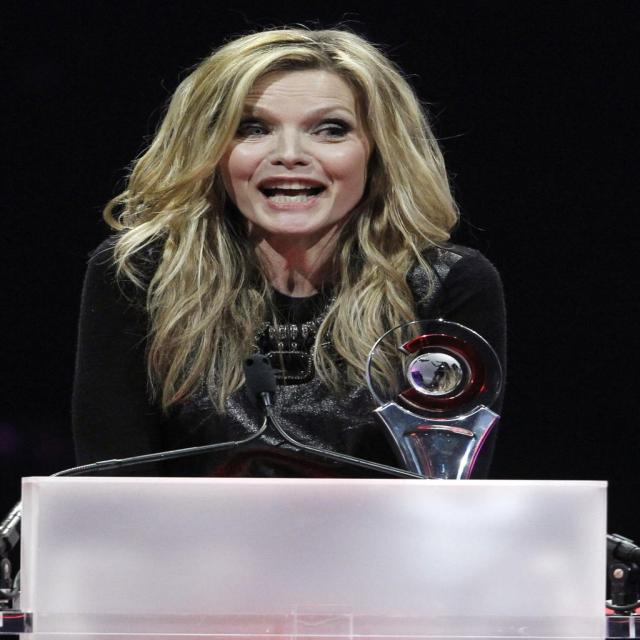Face: (231, 82, 373, 233)
